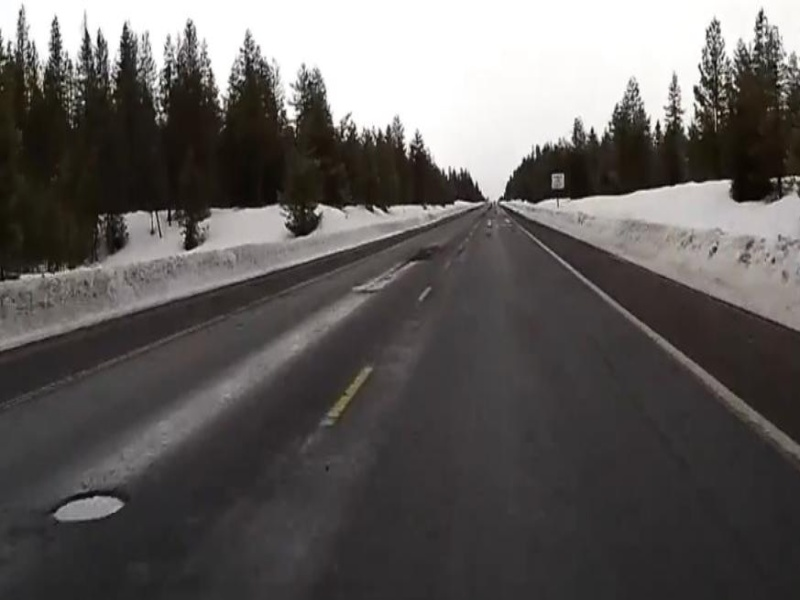pothole: (42, 489, 134, 529)
